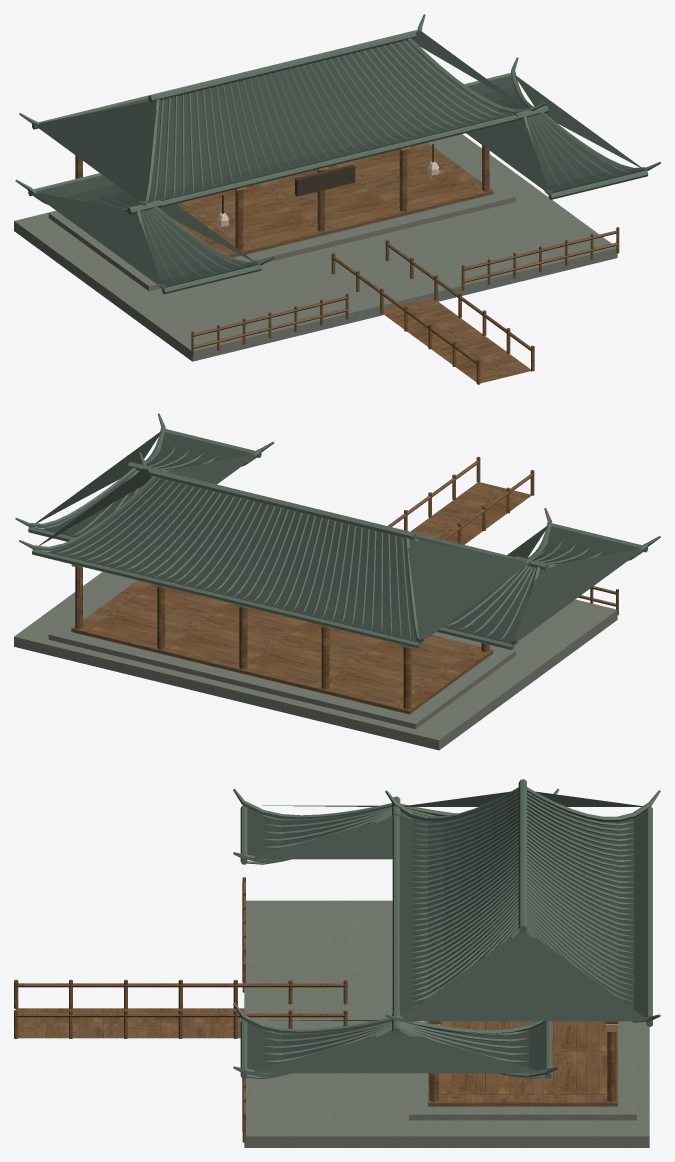
The model's file is ouxiangxie.glb.
The picture shows the model from 3 angles, top to bottom: view 1: azimuth 30°, elevation 25°; view 2: azimuth 150°, elevation 25°; view 3: azimuth 270°, elevation 25°; orthographic projection. The views are drawn at different scales.
Visible parts, largest first — view 1: ouxiangxie_roof, ouxiangxie_stone, ouxiangxie_wood, ouxiangxie_tile, ouxiangxie_darkwood; view 2: ouxiangxie_roof, ouxiangxie_wood, ouxiangxie_stone, ouxiangxie_tile; view 3: ouxiangxie_roof, ouxiangxie_stone, ouxiangxie_tile, ouxiangxie_wood.
Part boxes in pixels (bbox=[...]): ouxiangxie_roof: bbox=[33, 30, 641, 287]; ouxiangxie_stone: bbox=[14, 134, 617, 361]; ouxiangxie_wood: bbox=[75, 142, 619, 384]; ouxiangxie_tile: bbox=[15, 14, 660, 294]; ouxiangxie_darkwood: bbox=[222, 143, 433, 213]; ouxiangxie_roof: bbox=[35, 432, 642, 643]; ouxiangxie_wood: bbox=[71, 456, 618, 714]; ouxiangxie_stone: bbox=[14, 572, 617, 750]; ouxiangxie_tile: bbox=[15, 413, 660, 650]; ouxiangxie_roof: bbox=[247, 791, 646, 1077]; ouxiangxie_stone: bbox=[244, 900, 649, 1147]; ouxiangxie_tile: bbox=[233, 779, 660, 1078]; ouxiangxie_wood: bbox=[14, 877, 618, 1142].
Size of the model in its own units: 26.04 by 7.74 by 25.52.
Materials: 7 (2 with a texture image).
